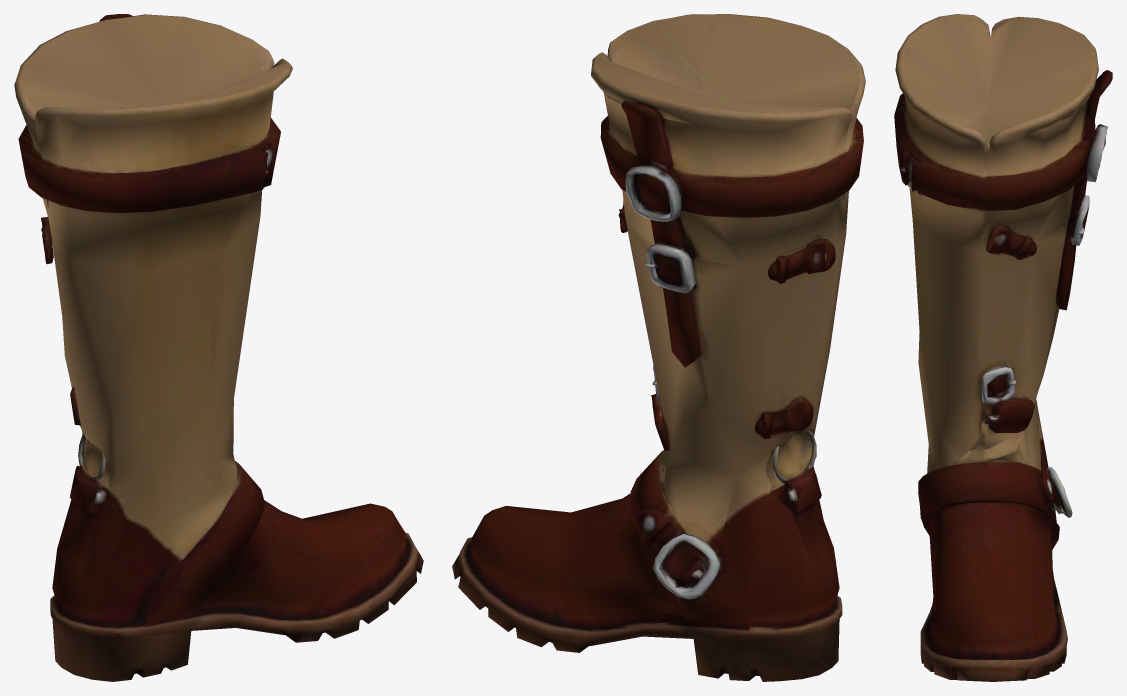
Rendered from default_boots_right.glb.
3 renders of one model, left to right at view 1: azimuth 30°, elevation 25°; view 2: azimuth 150°, elevation 25°; view 3: azimuth 270°, elevation 25°, orthographic. The views are drawn at different scales.
Parts seen in each view (by area): view 1: tripo_node_3d9b223f-76b6-4295-b58d-a0f4f876c0a0; view 2: tripo_node_3d9b223f-76b6-4295-b58d-a0f4f876c0a0; view 3: tripo_node_3d9b223f-76b6-4295-b58d-a0f4f876c0a0.
Boxes of the visible parts, x1,y1,x2,y2 form: tripo_node_3d9b223f-76b6-4295-b58d-a0f4f876c0a0: (14,14,423,681); tripo_node_3d9b223f-76b6-4295-b58d-a0f4f876c0a0: (452,14,865,681); tripo_node_3d9b223f-76b6-4295-b58d-a0f4f876c0a0: (894,14,1112,681).
Size of the model in its own units: 0.6973 by 0.998 by 0.3711.
1 material, 1 textured.
